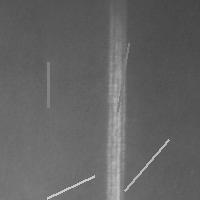scratches: (104, 10, 128, 199), (120, 134, 174, 195), (42, 171, 99, 200), (113, 38, 134, 116), (43, 57, 53, 112)
